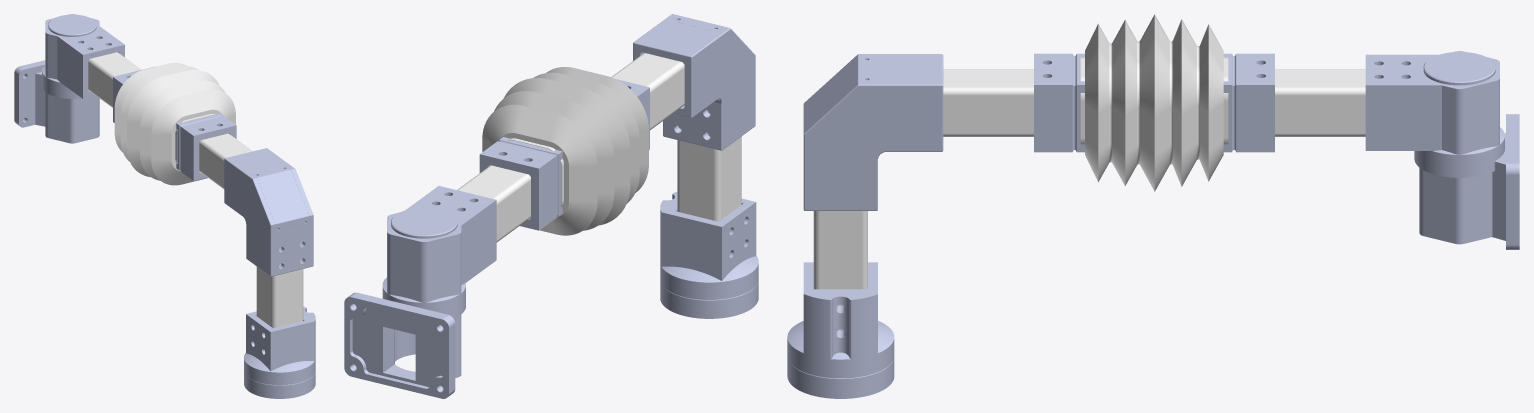
File: TDB82-LC-AEG01-6060-6-LA100-LB100-LC100.glb
The picture shows the model from 3 angles, left to right: view 1: azimuth 30°, elevation 25°; view 2: azimuth 150°, elevation 25°; view 3: azimuth 270°, elevation 25°; orthographic projection. The views are drawn at different scales.
Parts seen in each view (by area): view 1: NAUO10, NAUO1, NAUO5, NAUO7, NAUO6, NAUO9, NAUO4, NAUO2, NAUO8; view 2: NAUO1, NAUO10, NAUO5, NAUO7, NAUO6, NAUO8, NAUO2, NAUO4, NAUO9; view 3: NAUO1, NAUO10, NAUO5, NAUO7, NAUO2, NAUO4, NAUO8, NAUO9, NAUO6.
Part boxes in pixels (left/top/right/bottom): NAUO10: left=114, top=62, right=235, bottom=185; NAUO1: left=14, top=14, right=124, bottom=143; NAUO5: left=224, top=148, right=313, bottom=276; NAUO7: left=244, top=306, right=315, bottom=398; NAUO6: left=256, top=242, right=303, bottom=328; NAUO9: left=176, top=113, right=236, bottom=180; NAUO4: left=199, top=133, right=252, bottom=189; NAUO2: left=88, top=52, right=141, bottom=107; NAUO8: left=113, top=66, right=155, bottom=122; NAUO1: left=344, top=186, right=496, bottom=398; NAUO10: left=482, top=67, right=648, bottom=235; NAUO5: left=633, top=14, right=755, bottom=150; NAUO7: left=660, top=191, right=758, bottom=318; NAUO6: left=677, top=110, right=741, bottom=221; NAUO8: left=479, top=137, right=562, bottom=230; NAUO2: left=457, top=165, right=530, bottom=242; NAUO4: left=611, top=53, right=684, bottom=129; NAUO9: left=616, top=79, right=649, bottom=149; NAUO1: left=1365, top=51, right=1519, bottom=249; NAUO10: left=1080, top=14, right=1228, bottom=191; NAUO5: left=803, top=54, right=943, bottom=210; NAUO7: left=787, top=262, right=894, bottom=398; NAUO2: left=1275, top=69, right=1365, bottom=136; NAUO4: left=943, top=69, right=1033, bottom=136; NAUO8: left=1223, top=53, right=1274, bottom=152; NAUO9: left=1034, top=53, right=1084, bottom=152; NAUO6: left=813, top=211, right=867, bottom=330.
Size of the model in its own units: 0.1816 by 0.4238 by 0.808.
